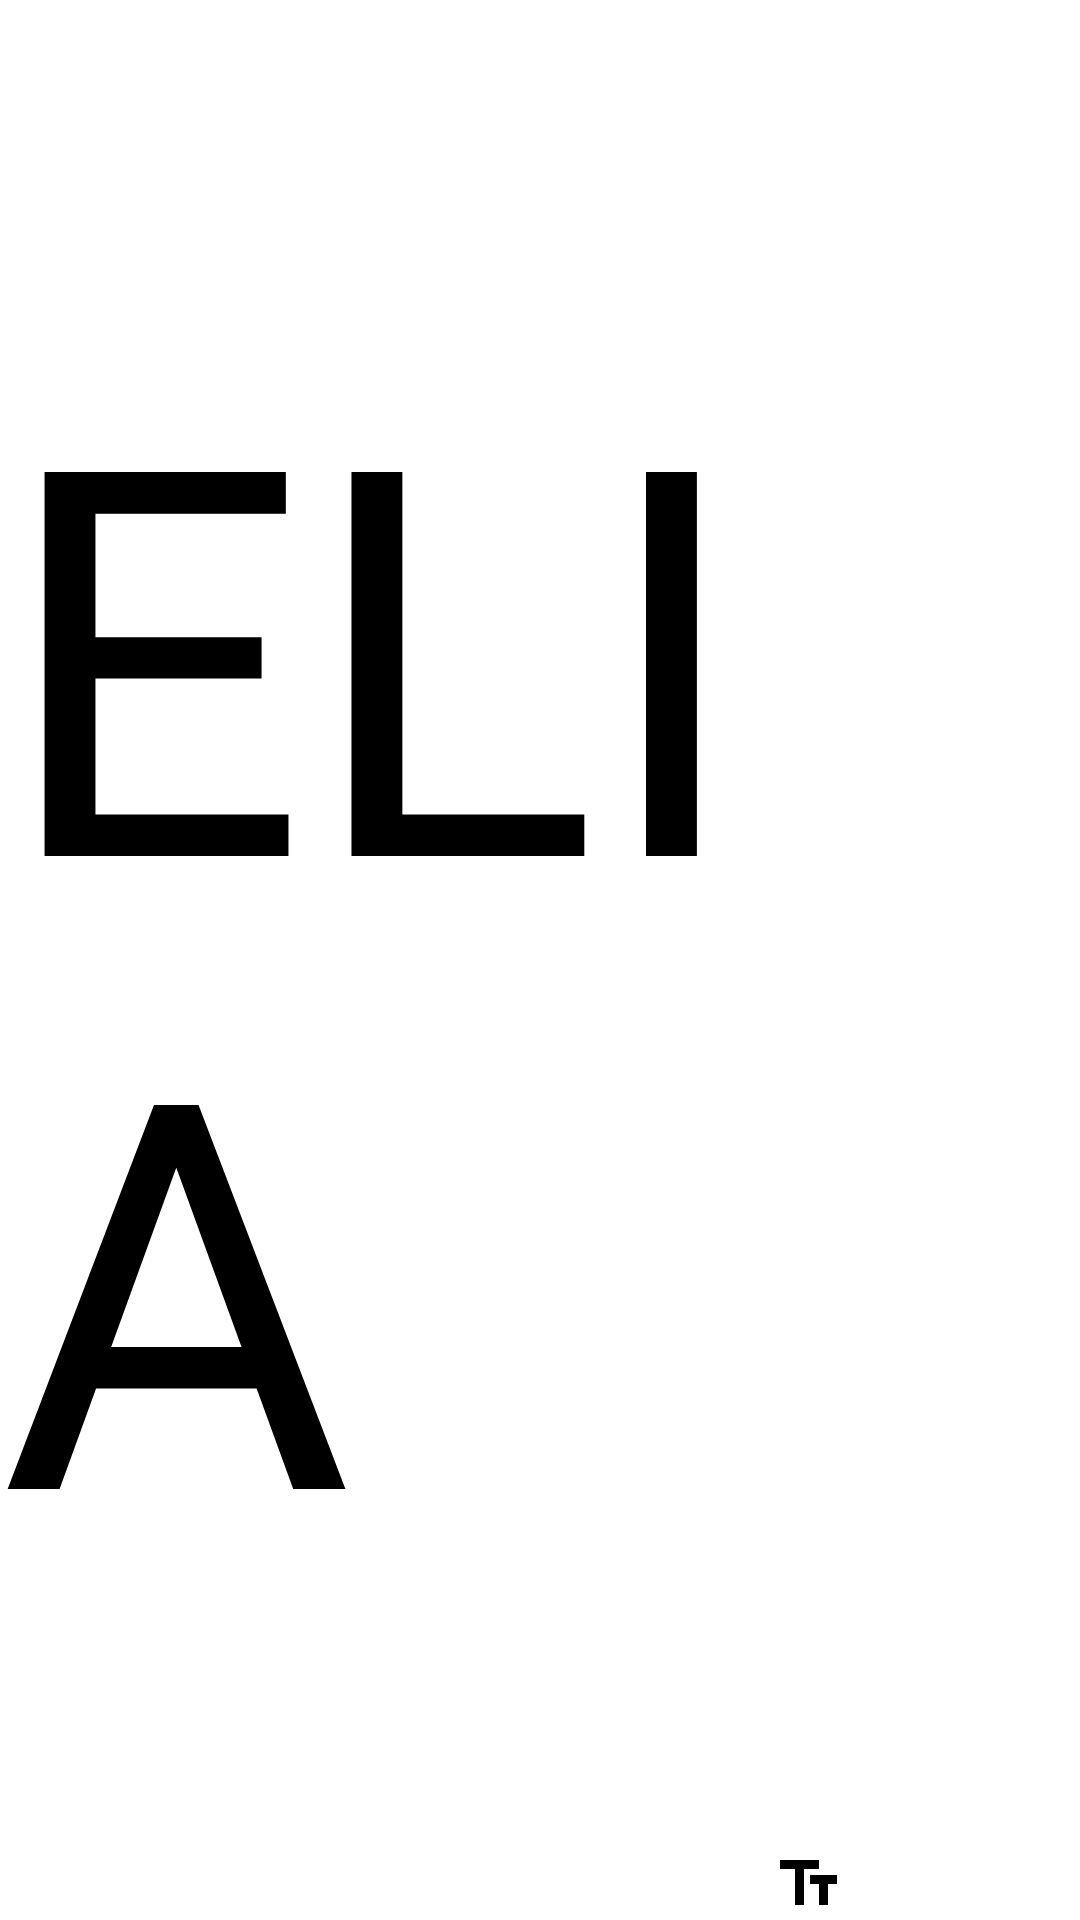

Screen size 1080w x 1920h. Icon name, then its box in pixels as [x1=x1, y1=y1, x2=x2, y2=y2]:
format size: [x1=780, y1=1860, x2=837, y2=1905]
